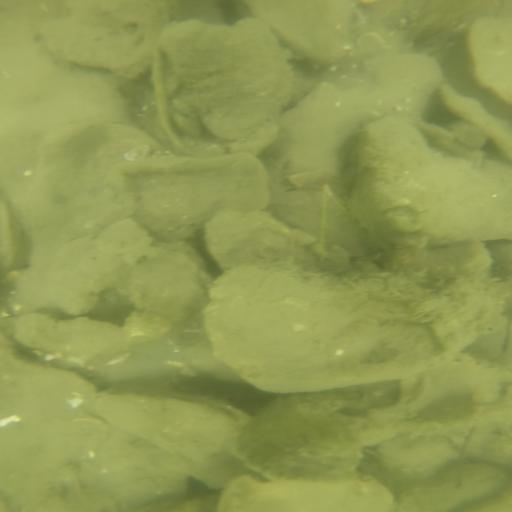Oyster-Closed: (208, 263, 511, 393), (348, 118, 500, 250), (80, 390, 267, 492), (163, 17, 293, 139), (111, 151, 277, 245), (234, 390, 372, 484), (40, 2, 169, 79), (247, 4, 361, 64)
